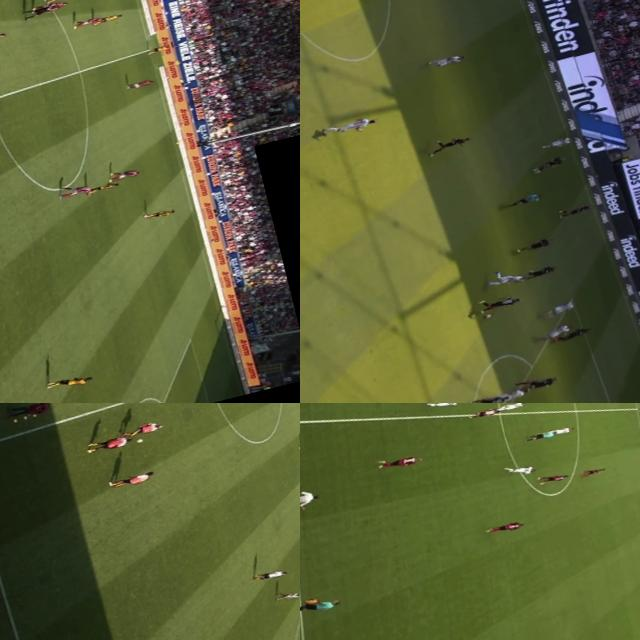ball: (132, 436, 148, 444), (481, 311, 493, 319), (141, 212, 148, 216)
player: (319, 112, 380, 140), (479, 264, 528, 291), (424, 131, 474, 156), (473, 290, 522, 314), (44, 370, 94, 392), (82, 434, 133, 454), (516, 372, 562, 394), (108, 469, 156, 489), (532, 321, 574, 343), (378, 451, 423, 471), (483, 384, 530, 403), (538, 298, 580, 319), (485, 516, 528, 536), (551, 324, 593, 344), (530, 153, 568, 174), (512, 235, 556, 253), (426, 51, 466, 70), (538, 134, 576, 152), (500, 461, 538, 479), (57, 180, 94, 198), (523, 262, 560, 280), (464, 389, 511, 403), (555, 201, 592, 218), (106, 165, 142, 182), (129, 418, 167, 434), (533, 470, 571, 486), (71, 12, 106, 28), (86, 179, 120, 195), (122, 75, 156, 91), (92, 10, 125, 25), (31, 0, 68, 13), (142, 206, 176, 220), (255, 568, 288, 582), (468, 404, 500, 418), (548, 422, 577, 436), (580, 464, 608, 476), (146, 42, 171, 54), (423, 403, 464, 410), (498, 403, 527, 412)
